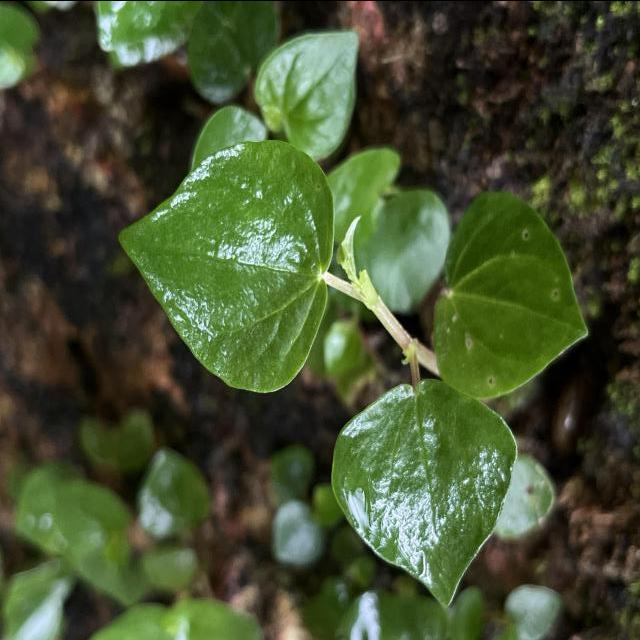Peperomia pellucida: (115, 136, 338, 398), (328, 374, 524, 612)
